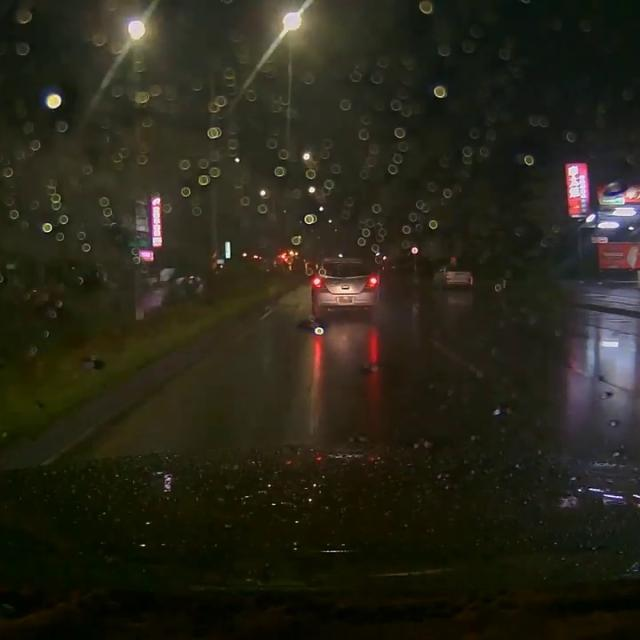Car: (308, 252, 379, 319), (430, 261, 474, 288)
